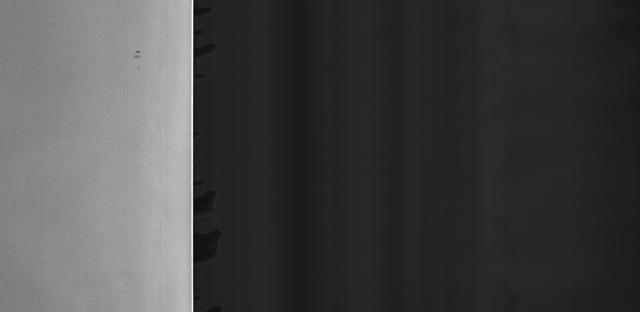inclusion: (129, 46, 146, 71)
